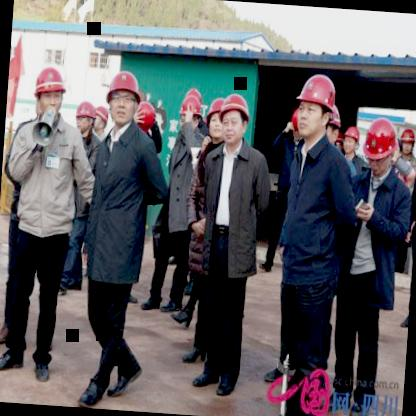helmet: (295, 72, 339, 140), (360, 115, 400, 182), (104, 66, 142, 134), (218, 89, 254, 154), (33, 63, 70, 122), (175, 92, 205, 136), (321, 103, 344, 153), (204, 96, 228, 143), (72, 98, 98, 138), (92, 102, 114, 139), (342, 123, 362, 160), (289, 104, 306, 146), (398, 125, 416, 156)
